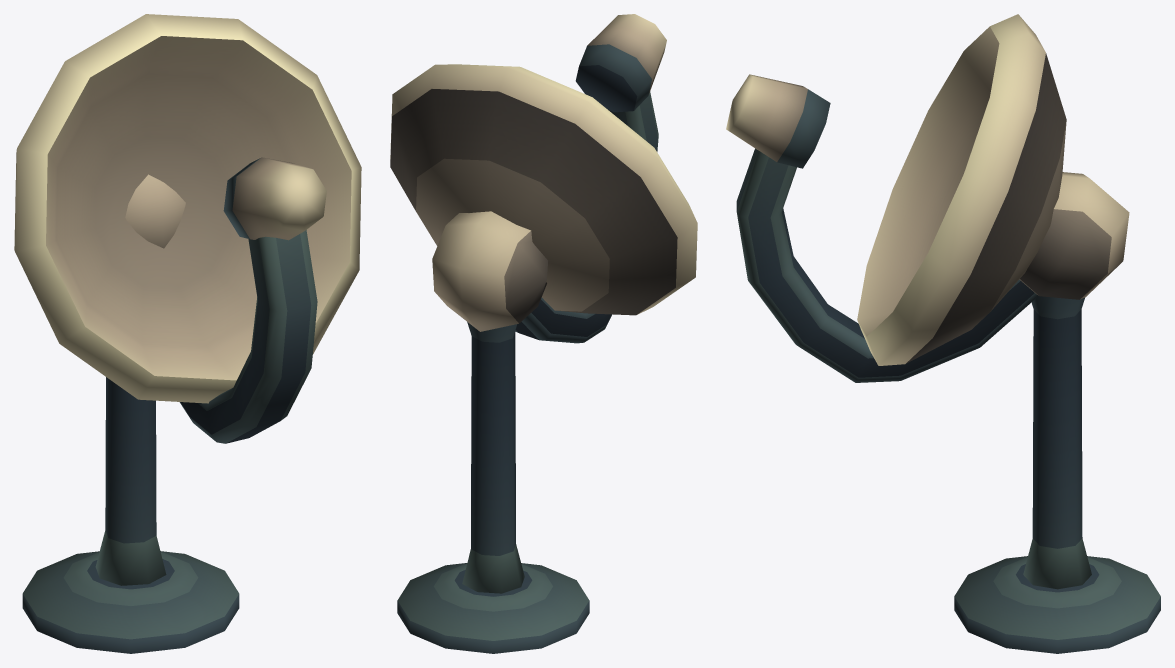
Rendered from sattelite_dish_standing_LOD_setup.fbx.
3 renders of one model, left to right at view 1: azimuth 30°, elevation 25°; view 2: azimuth 150°, elevation 25°; view 3: azimuth 270°, elevation 25°, orthographic. The views are drawn at different scales.
Visible parts, largest first — view 1: sattelite_dish_standing_LOD0; view 2: sattelite_dish_standing_LOD0; view 3: sattelite_dish_standing_LOD0.
Boxes of the visible parts, x1,y1,x2,y2 form: sattelite_dish_standing_LOD0: (14,14,361,653); sattelite_dish_standing_LOD0: (390,14,697,653); sattelite_dish_standing_LOD0: (726,14,1160,653).
Size of what is drawn, in the model's own units: 116 by 193 by 132.
